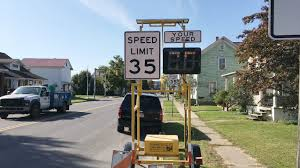speedLimit35: (123, 30, 161, 80)
